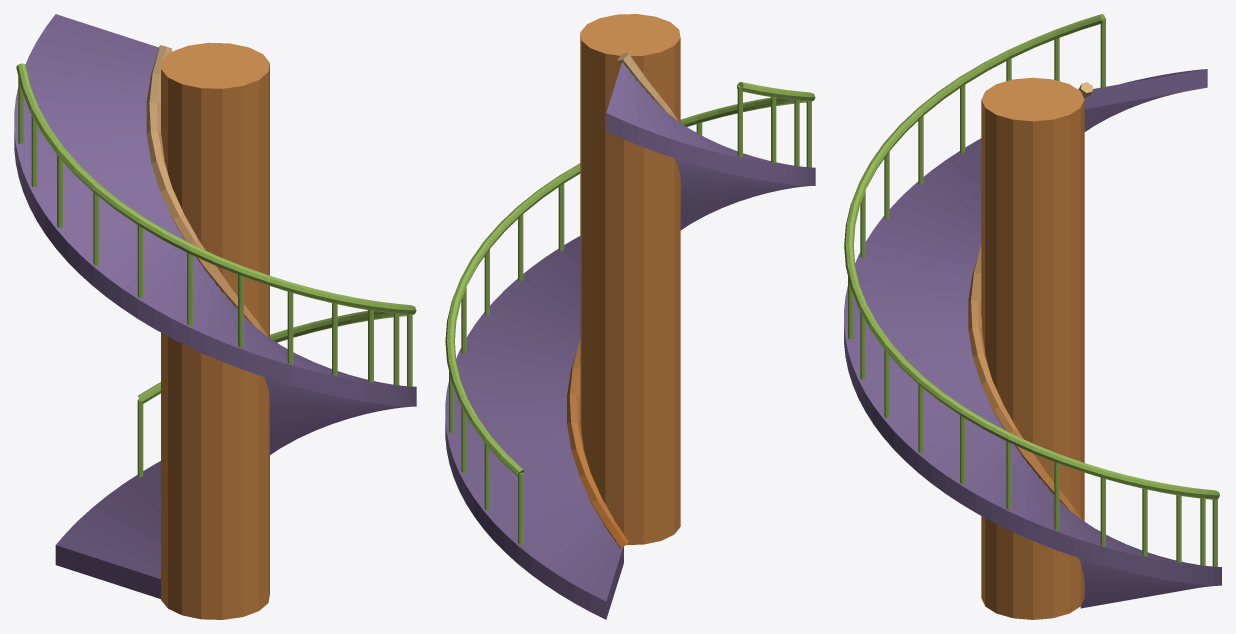
Rendered from goo_jar_stair@haunted.fbx.
3 views of the same model, side by side, from view 1: azimuth 30°, elevation 25°; view 2: azimuth 150°, elevation 25°; view 3: azimuth 270°, elevation 25° (orthographic). The views are drawn at different scales.
Visible parts, largest first — view 1: goo_jar_stair; view 2: goo_jar_stair; view 3: goo_jar_stair.
Part boxes in pixels (left/top/right/bottom): goo_jar_stair: left=14, top=14, right=416, bottom=619; goo_jar_stair: left=445, top=14, right=815, bottom=619; goo_jar_stair: left=844, top=14, right=1221, bottom=619.
Bounding box in the file's own units: 10.99 × 17.03 × 10.99.
